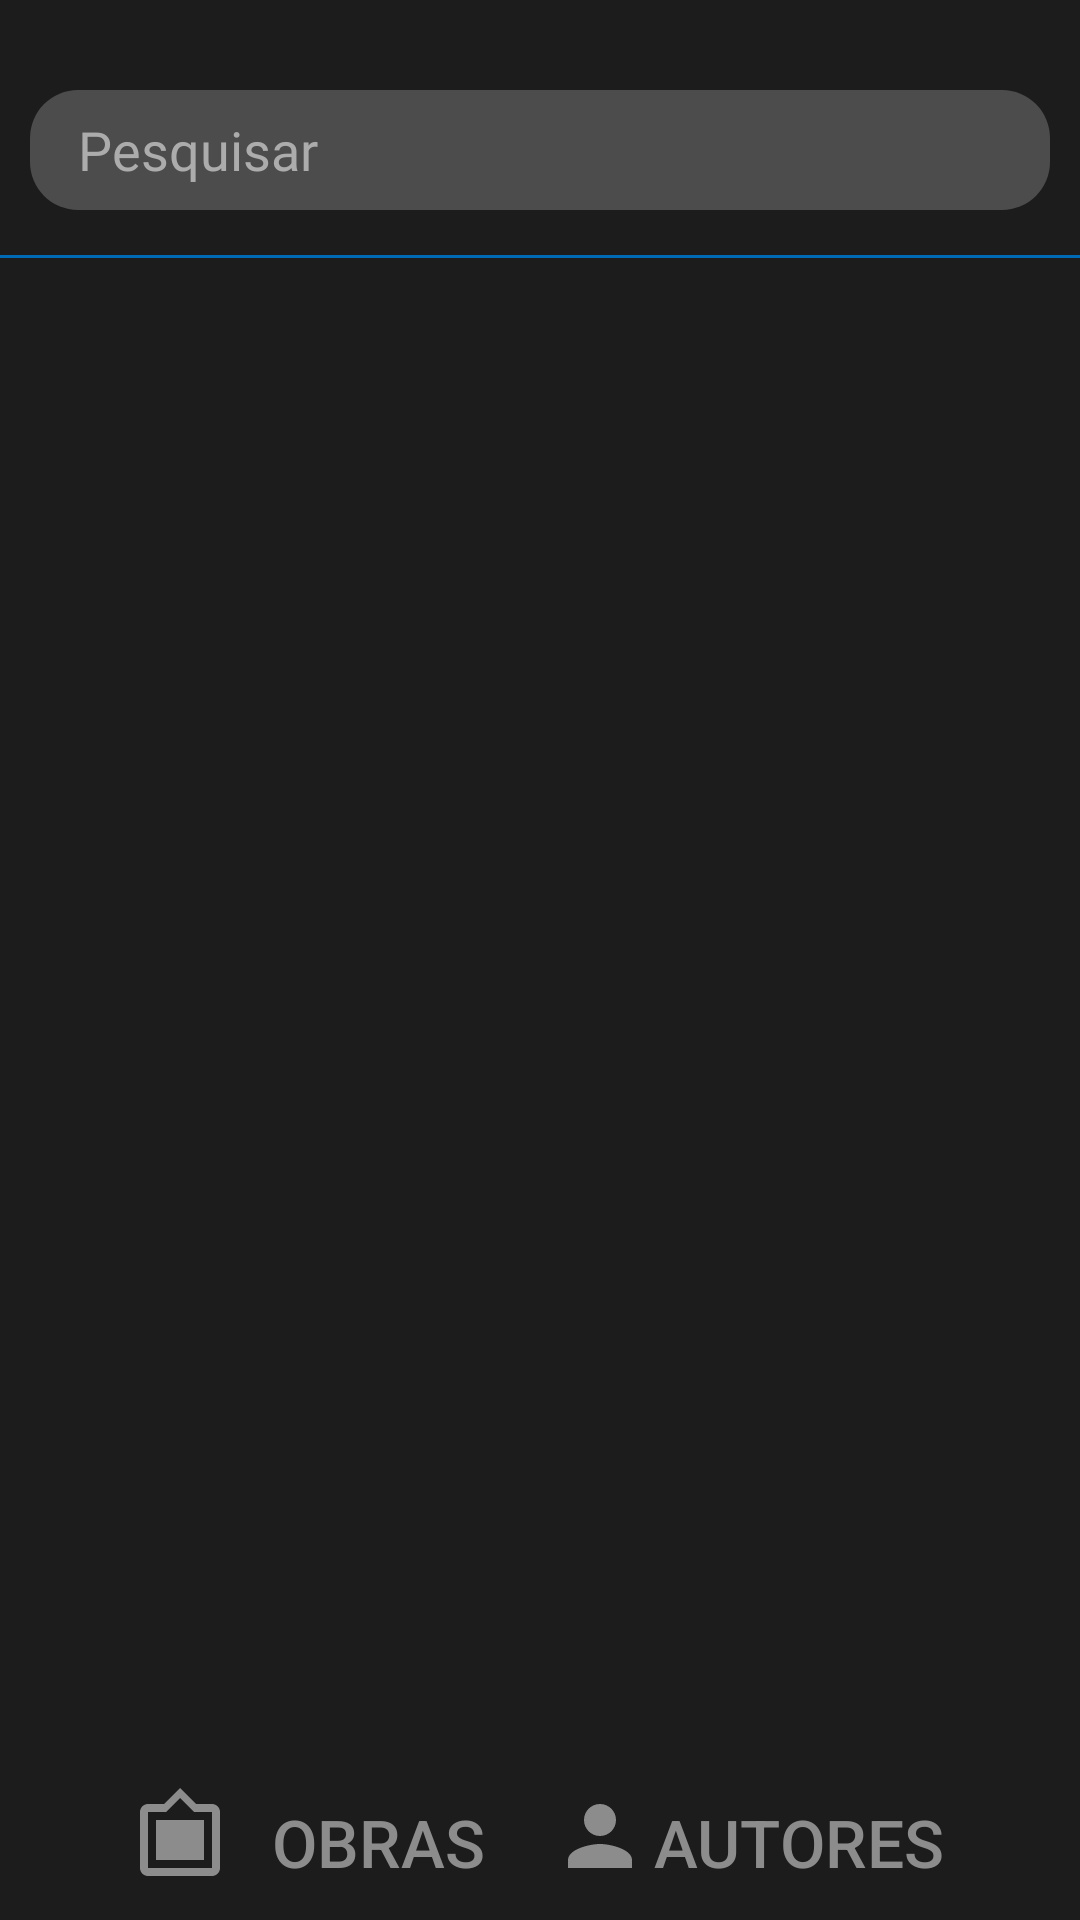

Where icons sit on this 1080px x 1920px app screen, as [x1, y1, x2, y2]:
person: [568, 1804, 632, 1868]
